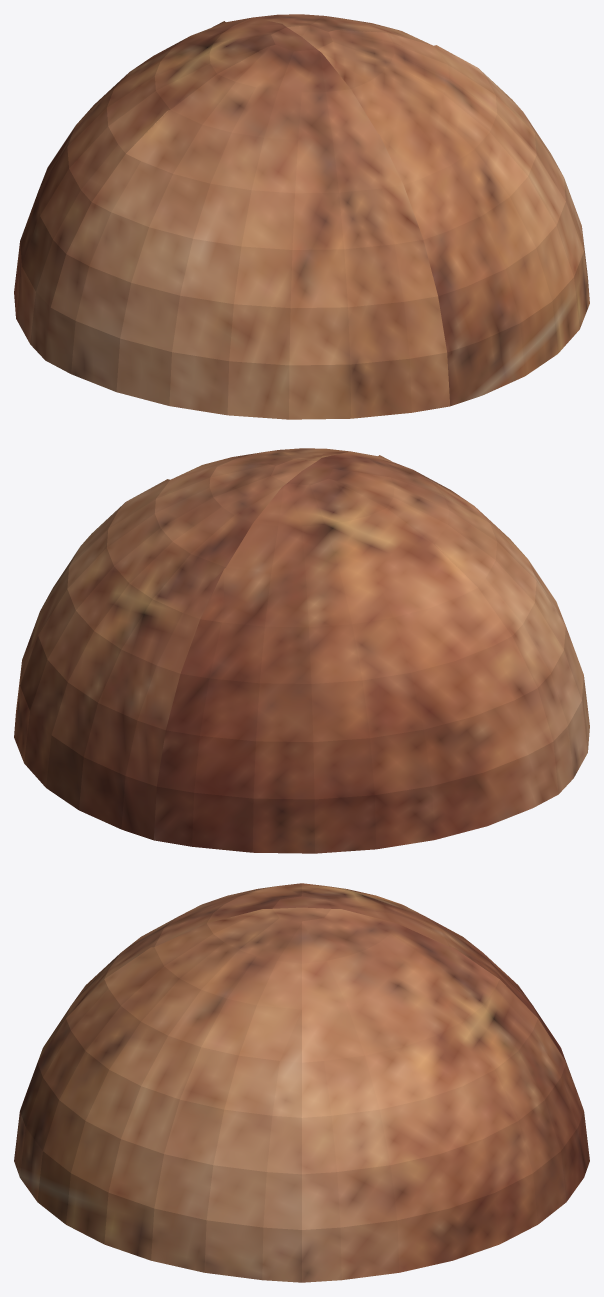
File: coconut.fbx
3 renders of one model, top to bottom at view 1: azimuth 30°, elevation 25°; view 2: azimuth 150°, elevation 25°; view 3: azimuth 270°, elevation 25°, orthographic. The views are drawn at different scales.
Visible parts, largest first — view 1: coconut; view 2: coconut; view 3: coconut.
Boxes of the visible parts, x1=… form: coconut: x1=14, y1=14, x2=589, y2=419; coconut: x1=14, y1=448, x2=589, y2=853; coconut: x1=14, y1=883, x2=589, y2=1282.
Bounding box in the file's own units: 26.18 × 12.72 × 26.19.
